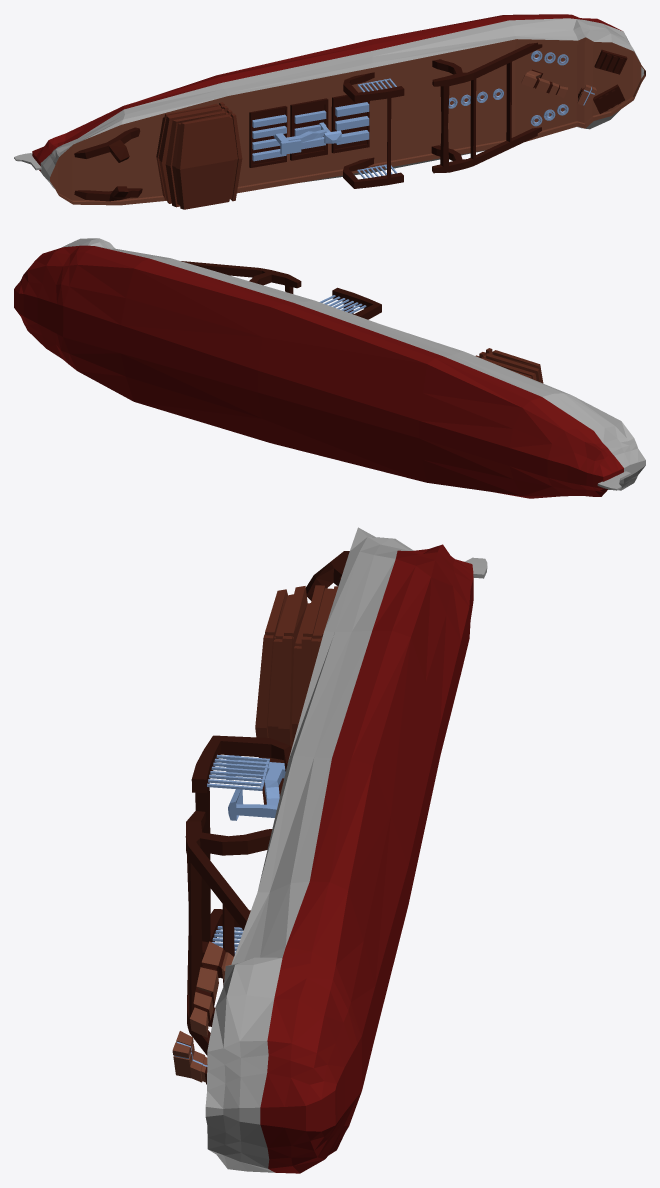
Rendered from skytteren_repaired.dae.
The picture shows the model from 3 angles, top to bottom: view 1: azimuth 30°, elevation 25°; view 2: azimuth 150°, elevation 25°; view 3: azimuth 270°, elevation 25°; orthographic projection. The views are drawn at different scales.
Visible parts, largest first — view 1: sikitteren; view 2: sikitteren; view 3: sikitteren.
Part boxes in pixels (box(x1,y1,x2,y2)): sikitteren: box(14, 14, 645, 209); sikitteren: box(14, 238, 645, 498); sikitteren: box(172, 527, 487, 1173).
Size of the model in its own units: 176 by 42.02 by 36.
